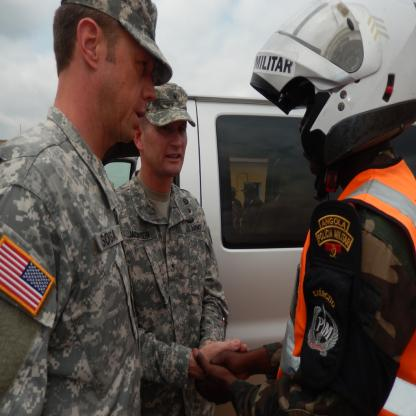Helmet: (248, 0, 416, 176)
